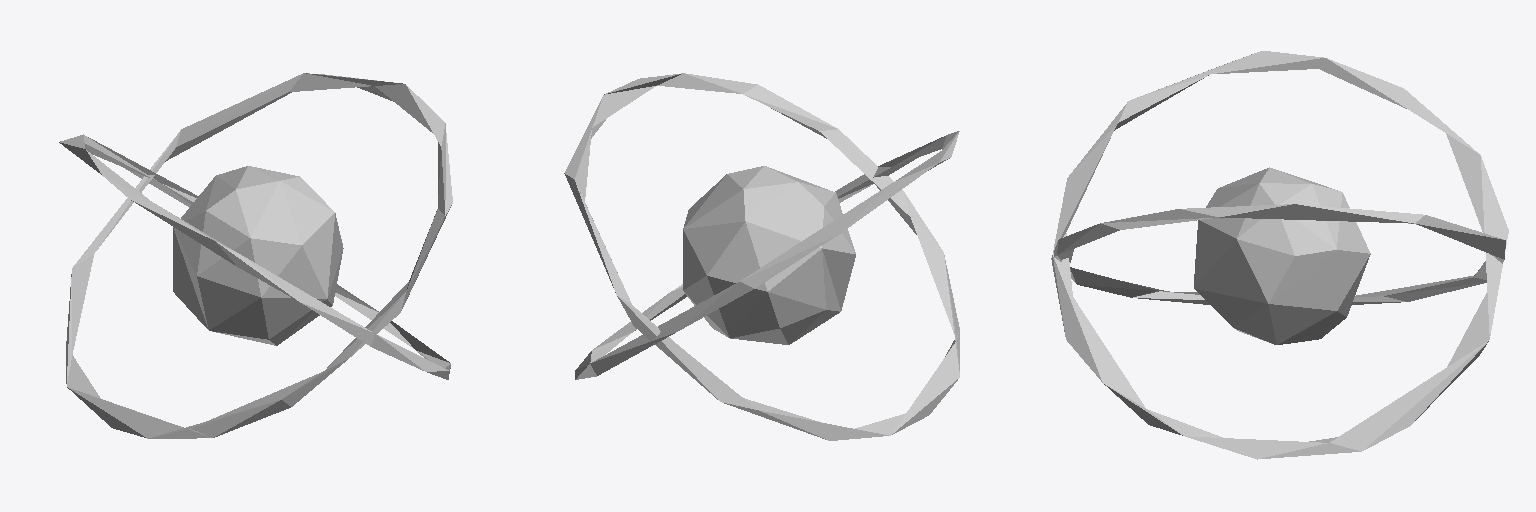
Rendered from lymphnodes.obj.
The picture shows the model from 3 angles: view 1: azimuth 30°, elevation 25°; view 2: azimuth 150°, elevation 25°; view 3: azimuth 270°, elevation 25°; orthographic projection.
Visible parts, largest first — view 1: BezierCircle_Mesh, Sphere; view 2: BezierCircle_Mesh, Sphere; view 3: BezierCircle_Mesh, Sphere.
Part boxes in pixels (x1,y1,x2,y2): BezierCircle_Mesh: (59,73,452,438); Sphere: (173,166,343,345); BezierCircle_Mesh: (564,73,959,440); Sphere: (683,166,855,344); BezierCircle_Mesh: (1051,51,1508,459); Sphere: (1194,167,1370,344).
Bounding box in the file's own units: 8.44 × 6.39 × 10.32.